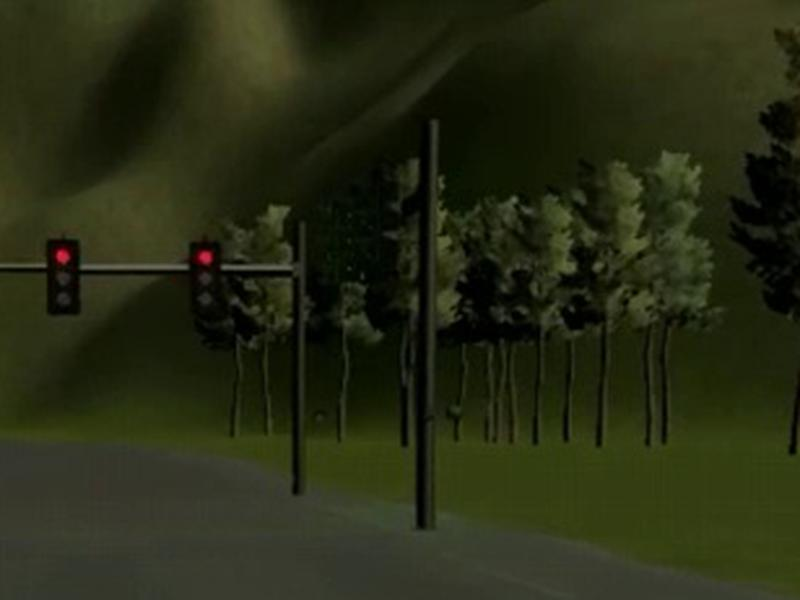Red: (189, 242, 221, 321), (47, 239, 80, 314)
